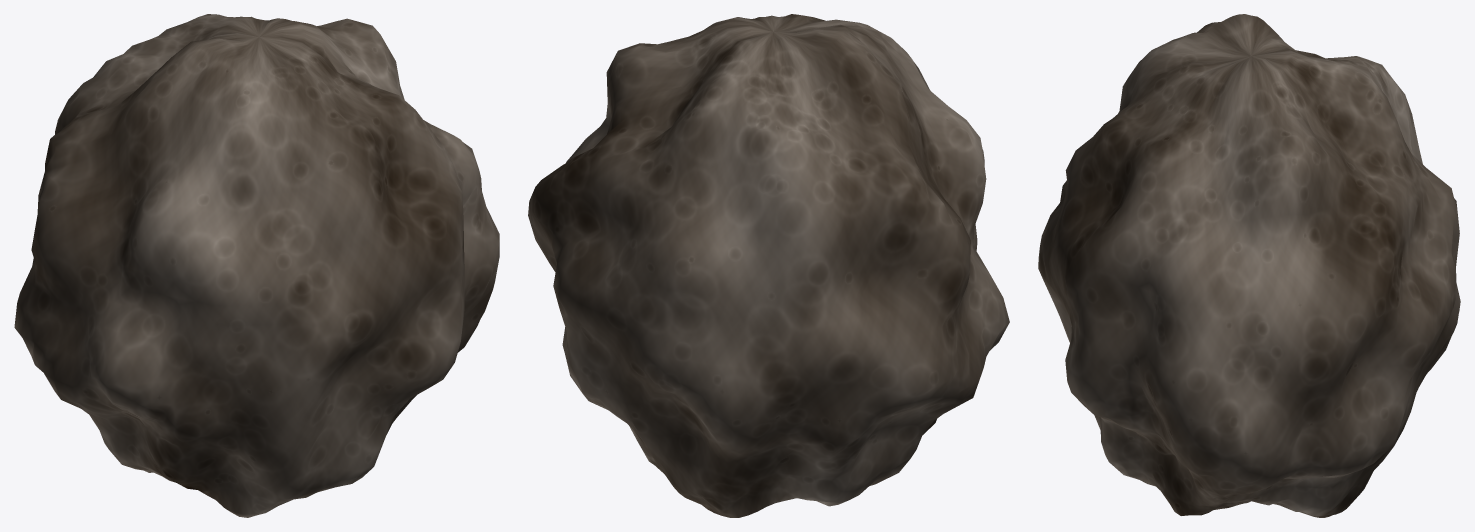
File: asteroid-05.glb
3 renders of one model, left to right at view 1: azimuth 30°, elevation 25°; view 2: azimuth 150°, elevation 25°; view 3: azimuth 270°, elevation 25°, orthographic.
Visible parts, largest first — view 1: asteroid-05 | nucleus; view 2: asteroid-05 | nucleus; view 3: asteroid-05 | nucleus.
Boxes of the visible parts, x1=… form: asteroid-05 | nucleus: x1=14, y1=14, x2=499, y2=517; asteroid-05 | nucleus: x1=528, y1=14, x2=1009, y2=517; asteroid-05 | nucleus: x1=1038, y1=14, x2=1460, y2=517.
Bounding box in the file's own units: 1.99 × 2.1 × 1.75.
1 material, 1 textured.
